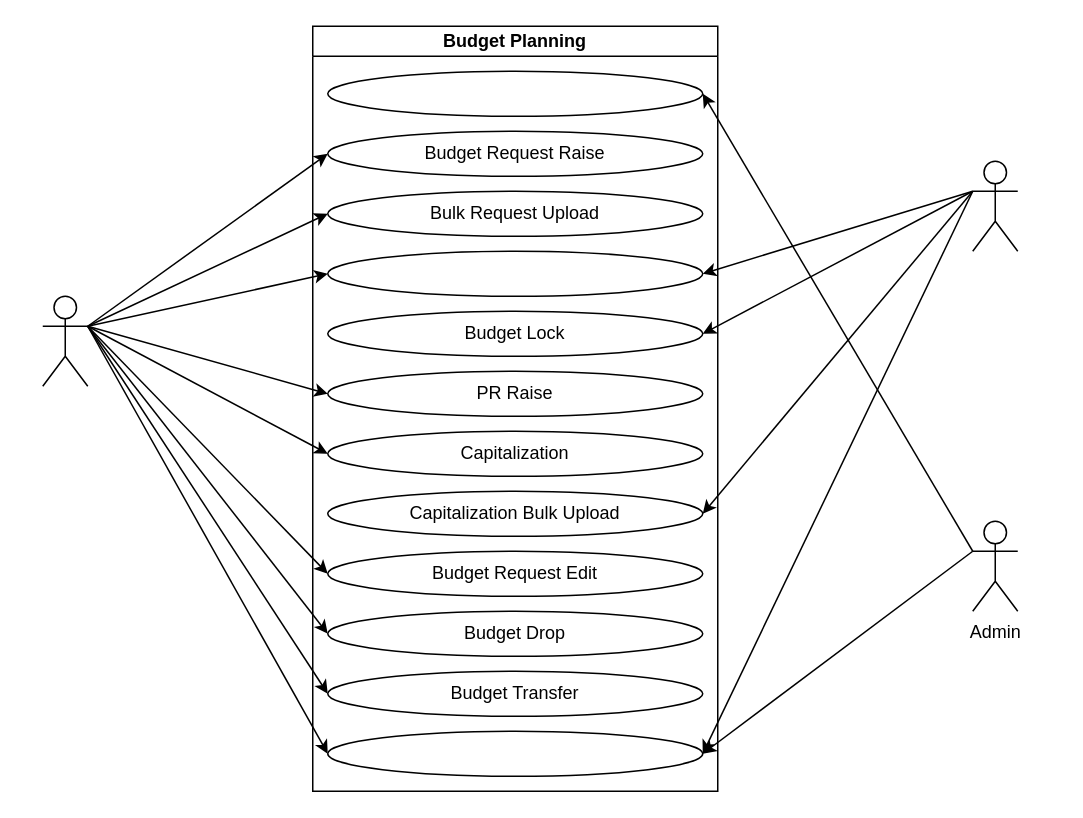
This 1083x818 diagram has some shape labels left out. Each missing label, with the centre of its shape:
"Budget View and Search" belongs at [514,753].
"Carry Forward" belongs at [514,273].
"Employee" belongs at [64,340].
"Forum Member" belongs at [994,205].
"Forum Member Add" belongs at [514,93].
